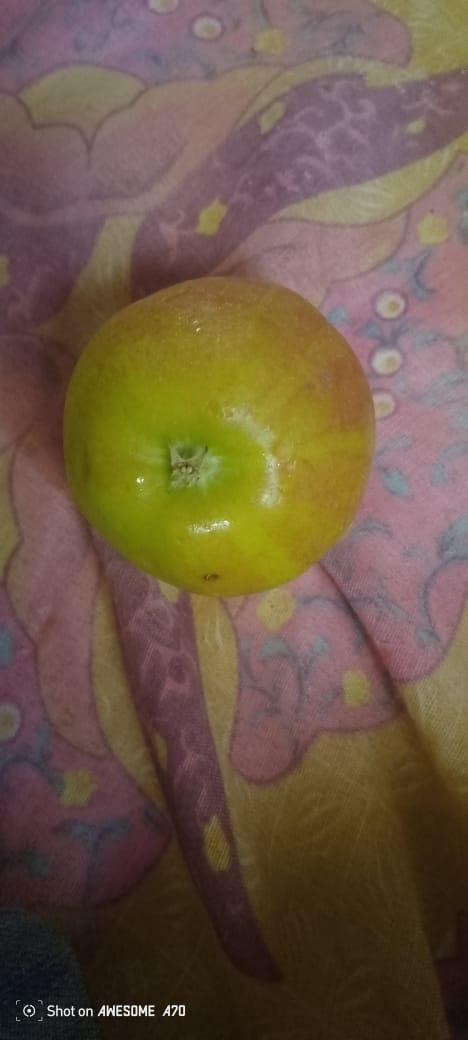non-mango: (73, 271, 373, 594)
